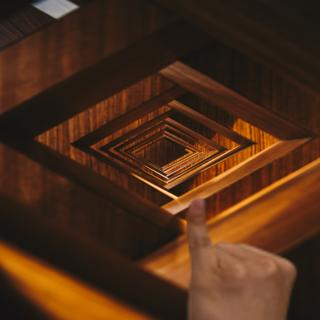FINE: (177, 196, 312, 320)
